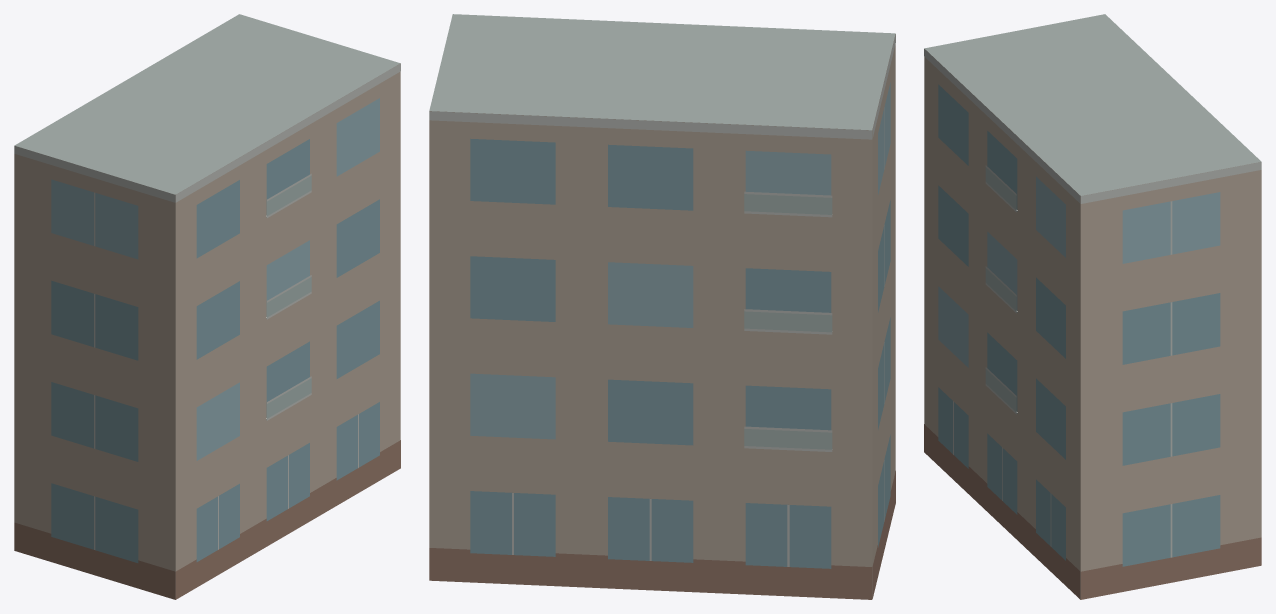
The model's file is residential-4cb60c90-a001-4320-9957-ed6adf46f942.glb.
3 views of the same model, side by side, from view 1: azimuth 30°, elevation 25°; view 2: azimuth 150°, elevation 25°; view 3: azimuth 270°, elevation 25° (orthographic). The views are drawn at different scales.
Visible parts, largest first — view 1: residential-4cb60c90-a001-4320-9957-ed6adf46f942.tmp; view 2: residential-4cb60c90-a001-4320-9957-ed6adf46f942.tmp; view 3: residential-4cb60c90-a001-4320-9957-ed6adf46f942.tmp.
Boxes of the visible parts, <box> form: residential-4cb60c90-a001-4320-9957-ed6adf46f942.tmp: <box>14,14,400,599</box>; residential-4cb60c90-a001-4320-9957-ed6adf46f942.tmp: <box>429,14,895,599</box>; residential-4cb60c90-a001-4320-9957-ed6adf46f942.tmp: <box>924,14,1261,599</box>.
Bounding box in the file's own units: 11.8 × 12.2 × 9.25.
